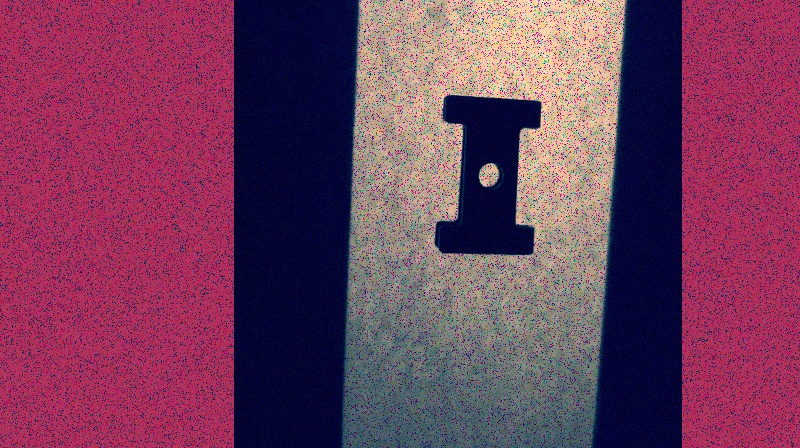O002: (430, 95, 544, 263)
